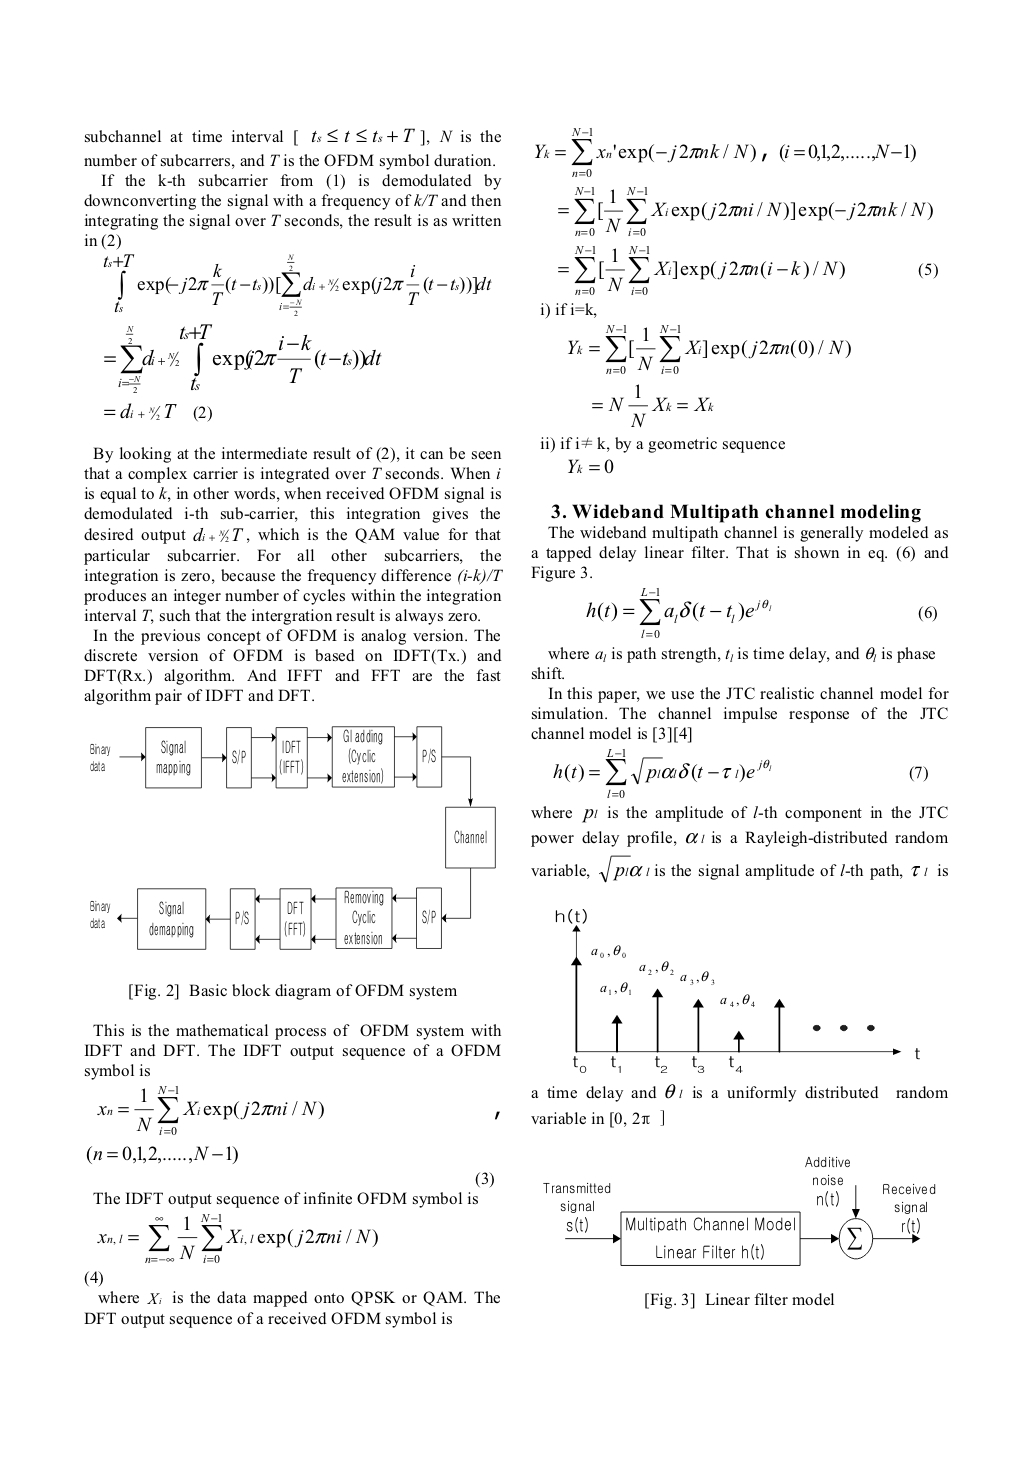figure: (90, 725, 495, 950), (555, 908, 919, 1073), (543, 1173, 935, 1266)
formula: (103, 252, 491, 316), (97, 1085, 499, 1136), (104, 322, 380, 393), (558, 185, 932, 236), (558, 245, 937, 294), (553, 748, 927, 798), (534, 128, 915, 176), (586, 588, 936, 637), (568, 323, 850, 374), (97, 1212, 377, 1263), (592, 383, 713, 428), (86, 1144, 237, 1165), (104, 402, 211, 422), (540, 302, 596, 319)
